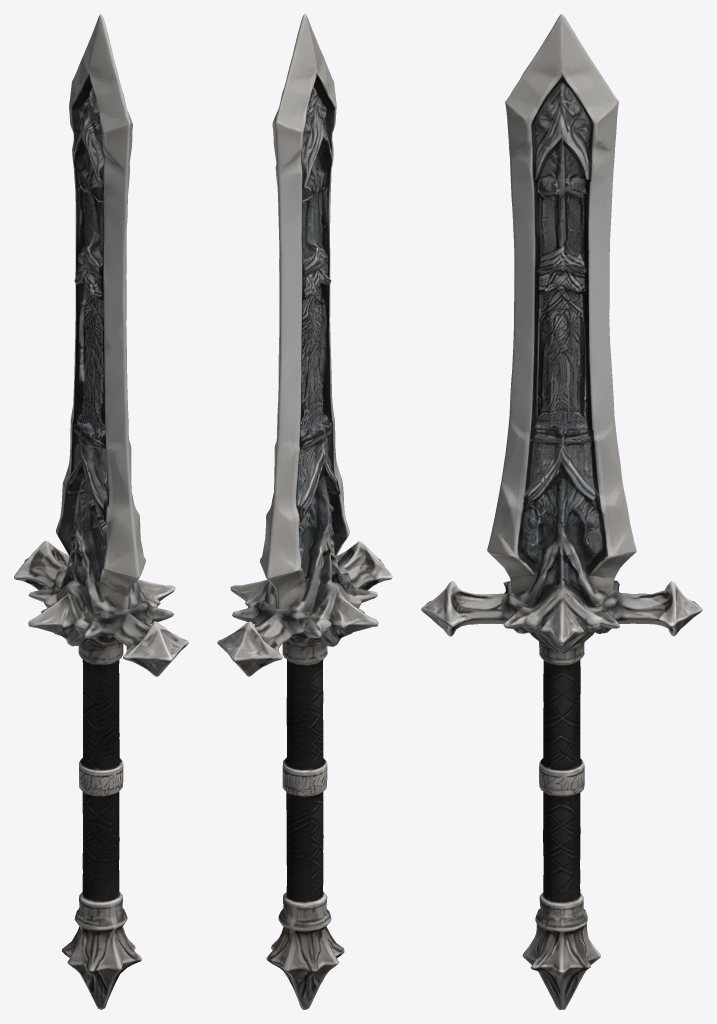
File: look-weapon2-t8-tripo.glb
3 views of the same model, side by side, from view 1: azimuth 30°, elevation 25°; view 2: azimuth 150°, elevation 25°; view 3: azimuth 270°, elevation 25° (orthographic).
Visible parts, largest first — view 1: tripo_node_ee990e3e-3b91-4d66-a9df-7eb281313263; view 2: tripo_node_ee990e3e-3b91-4d66-a9df-7eb281313263; view 3: tripo_node_ee990e3e-3b91-4d66-a9df-7eb281313263.
Boxes of the visible parts, x1,y1,x2,y2 form: tripo_node_ee990e3e-3b91-4d66-a9df-7eb281313263: [14, 14, 188, 1009]; tripo_node_ee990e3e-3b91-4d66-a9df-7eb281313263: [217, 14, 392, 1009]; tripo_node_ee990e3e-3b91-4d66-a9df-7eb281313263: [421, 14, 702, 1009].
Size of the model in its own units: 0.1551 by 1 by 0.2562.
Materials: 1 (1 with a texture image).
